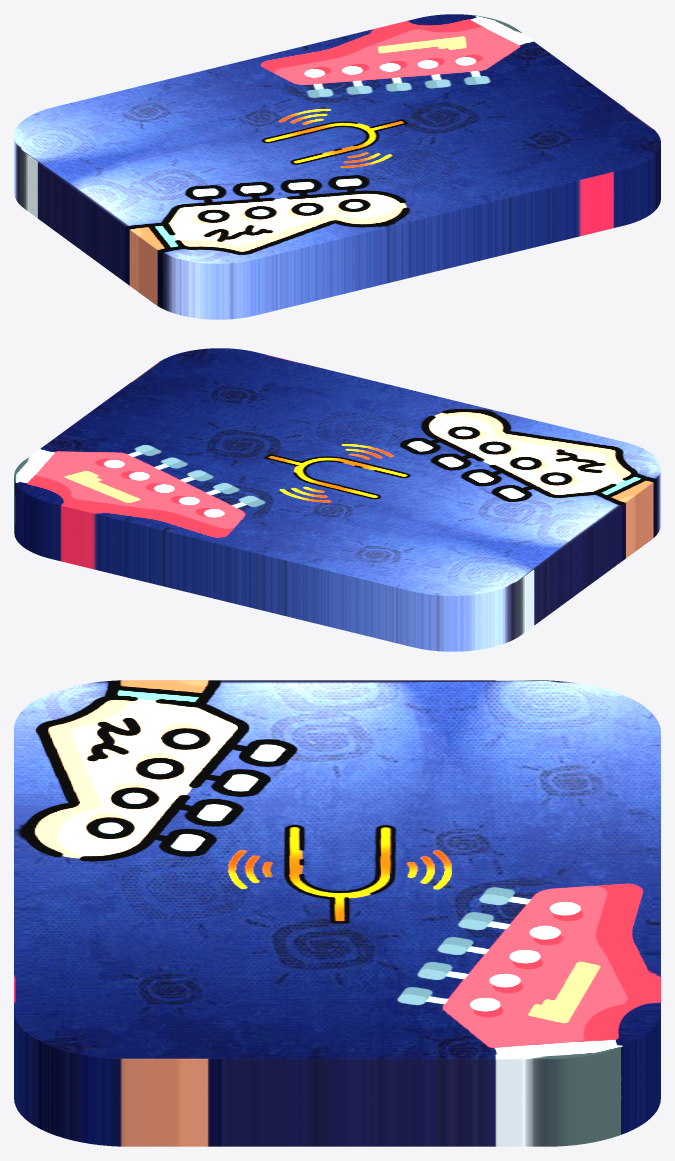
File: tuner.glb
3 renders of one model, top to bottom at view 1: azimuth 30°, elevation 25°; view 2: azimuth 150°, elevation 25°; view 3: azimuth 270°, elevation 25°, orthographic. The views are drawn at different scales.
Visible parts, largest first — view 1: Plane; view 2: Plane; view 3: Plane.
Part boxes in pixels (x1,y1,x2,y2): Plane: [14, 14, 660, 319]; Plane: [14, 348, 660, 651]; Plane: [14, 680, 660, 1146].
Size of the model in its own units: 3.9 by 0.4196 by 2.81.
1 material, 1 textured.
